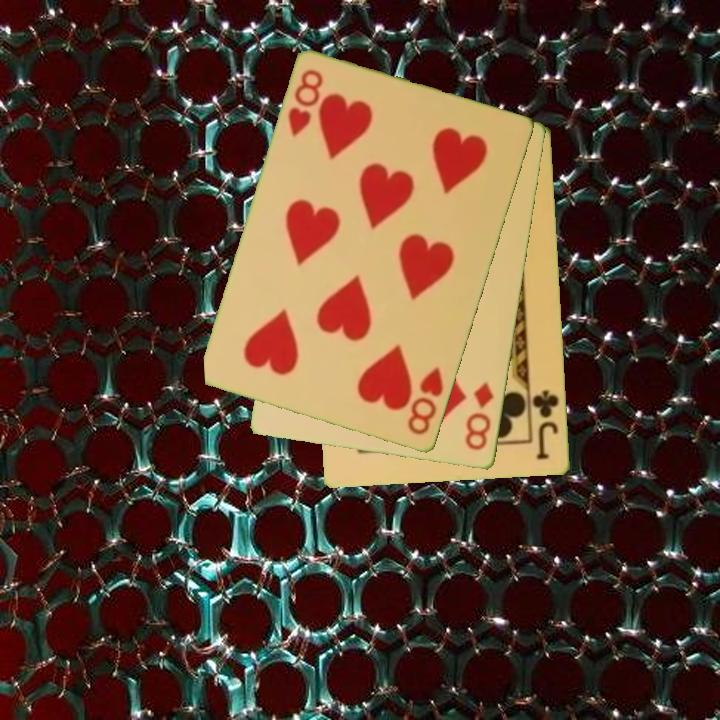8d: (462, 378, 497, 454)
8h: (404, 364, 447, 439), (284, 66, 327, 141)
Jc: (529, 387, 562, 463)
